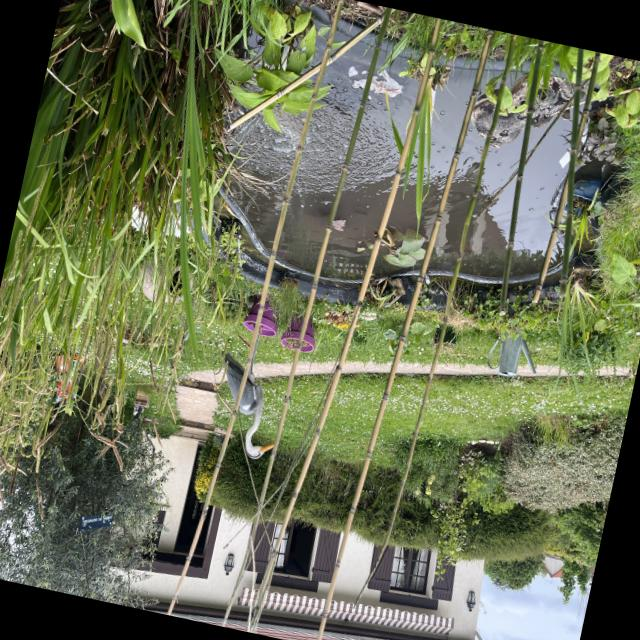Heron: (198, 305, 306, 466)
